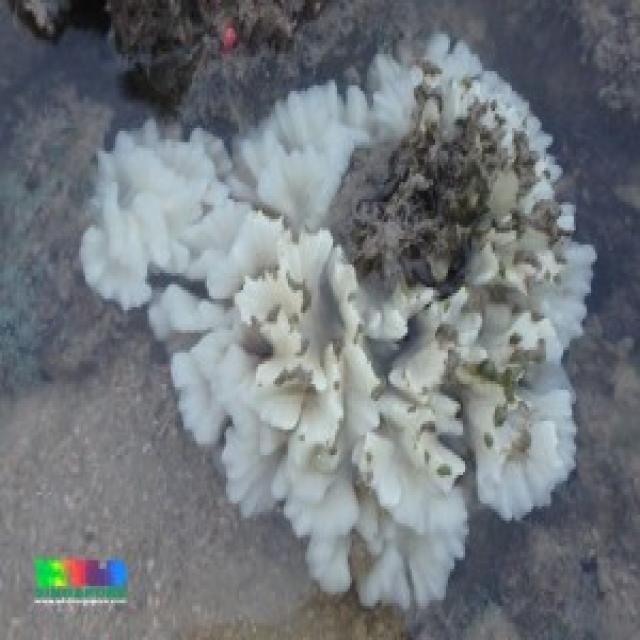Bleached Coral: (84, 42, 604, 538)
